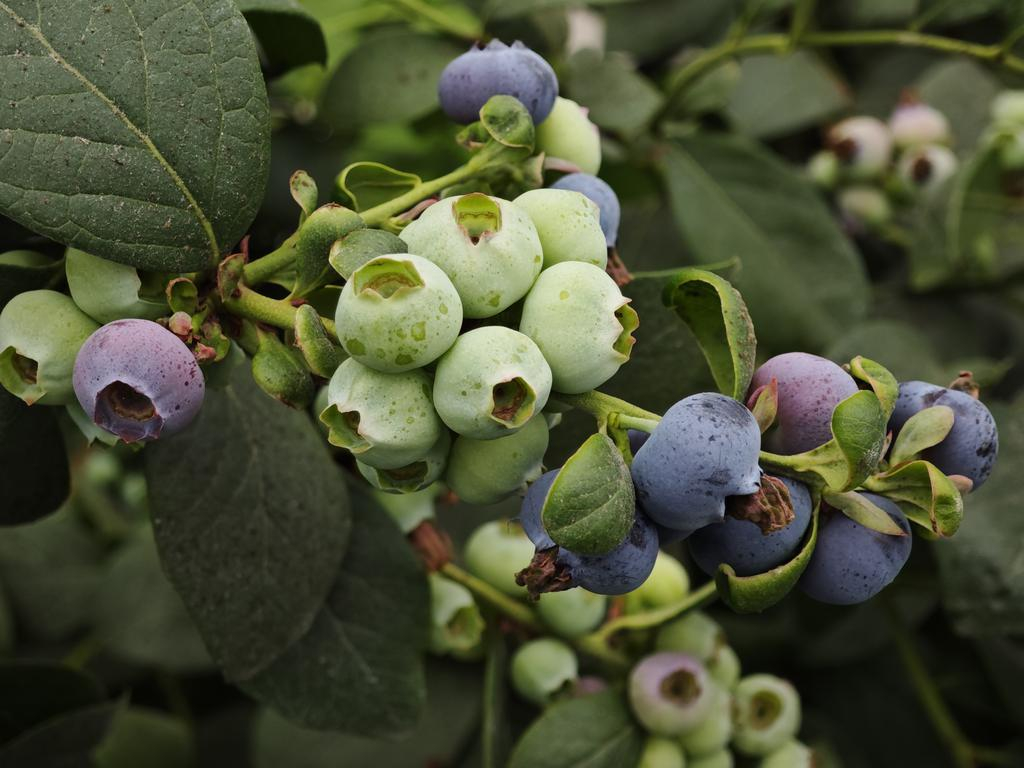RipeBlueBerry: (634, 389, 771, 538), (435, 38, 562, 127)
Semi-RipeBlueBerry: (68, 315, 209, 445), (759, 349, 870, 452)
UnripeBlueBerry: (332, 250, 465, 373), (435, 324, 556, 442)
